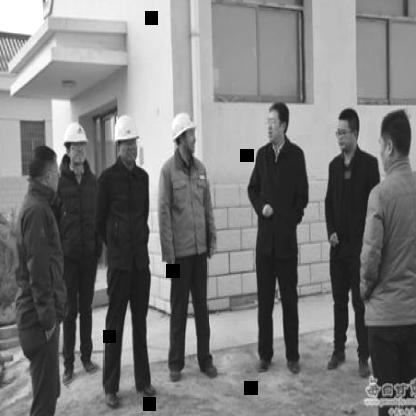helmet: (112, 112, 141, 166), (170, 112, 198, 158), (62, 119, 86, 170)
